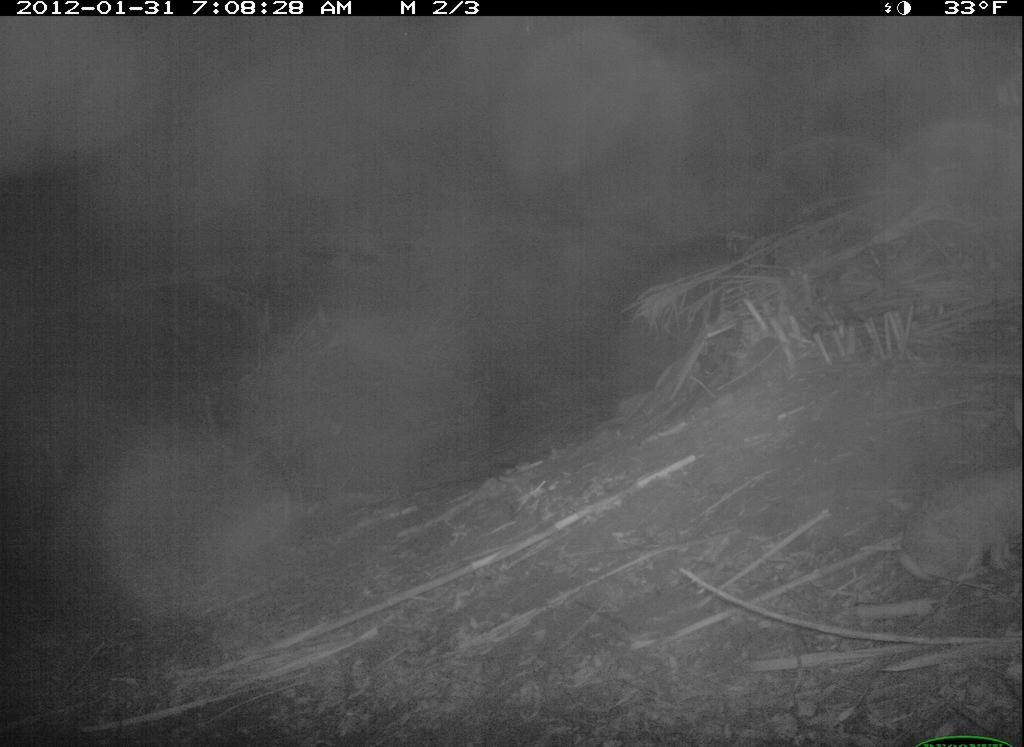rabbit: (891, 460, 1022, 587)
